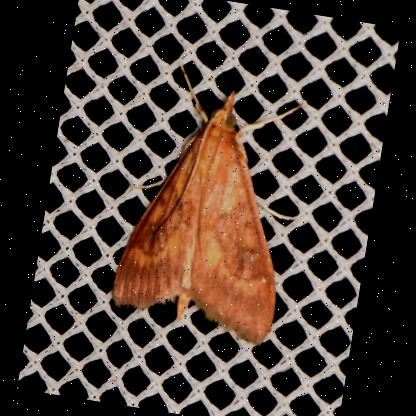Asian Corn Borer Moth: (102, 49, 324, 354)
